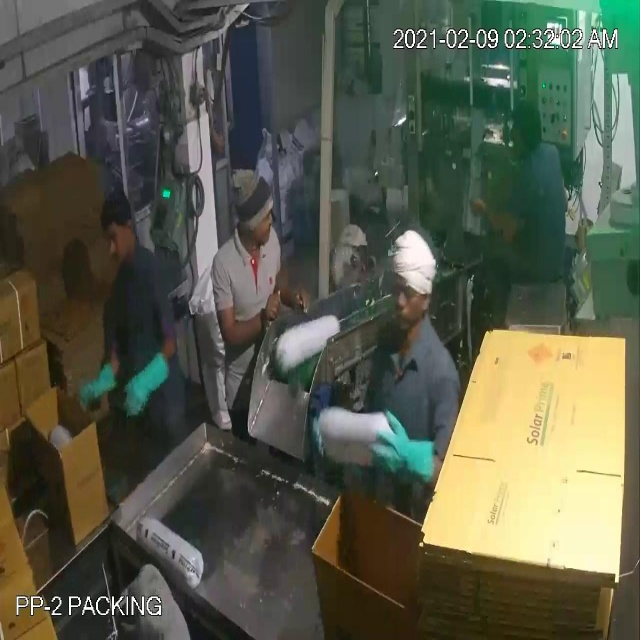Guantes: (370, 398, 443, 499), (118, 348, 175, 422), (79, 364, 123, 424)
Sin_guantes: (212, 287, 284, 355), (463, 187, 526, 250), (260, 262, 314, 321)
